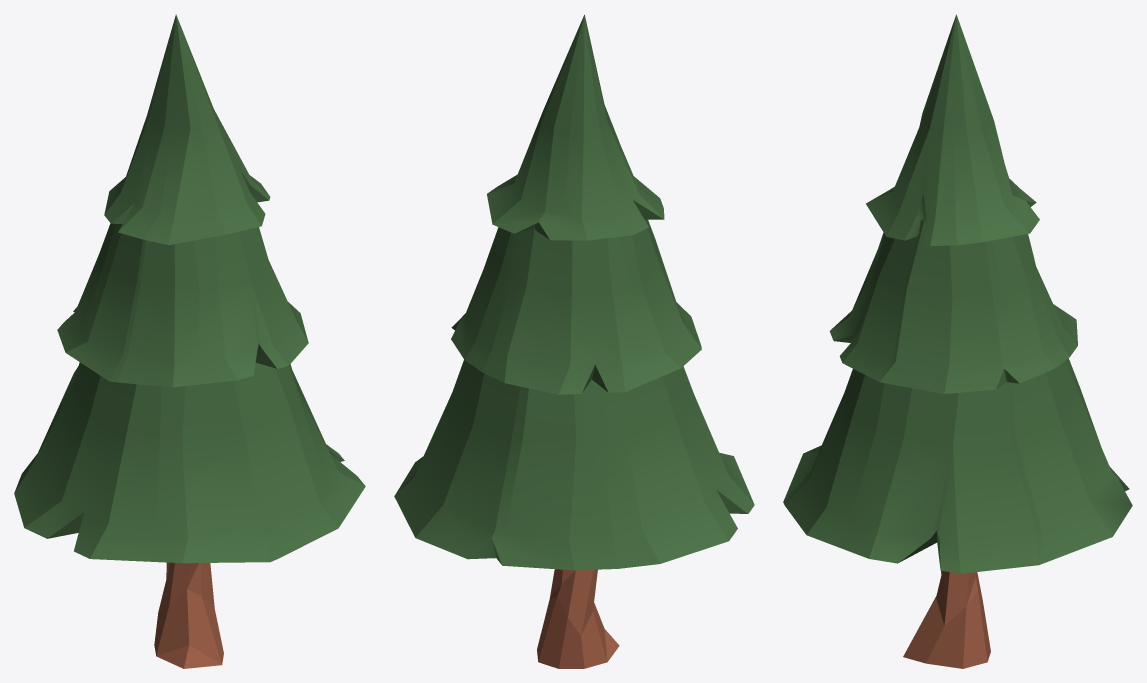
File: Tree_5_Medium.fbx
3 renders of one model, left to right at view 1: azimuth 30°, elevation 25°; view 2: azimuth 150°, elevation 25°; view 3: azimuth 270°, elevation 25°, orthographic.
Parts seen in each view (by area): view 1: Tree_5_Medium; view 2: Tree_5_Medium; view 3: Tree_5_Medium.
Boxes of the visible parts, x1,y1,x2,y2 form: Tree_5_Medium: (14, 14, 365, 668); Tree_5_Medium: (394, 14, 754, 668); Tree_5_Medium: (783, 14, 1132, 668).
Bounding box in the file's own units: 110 × 213 × 107.
